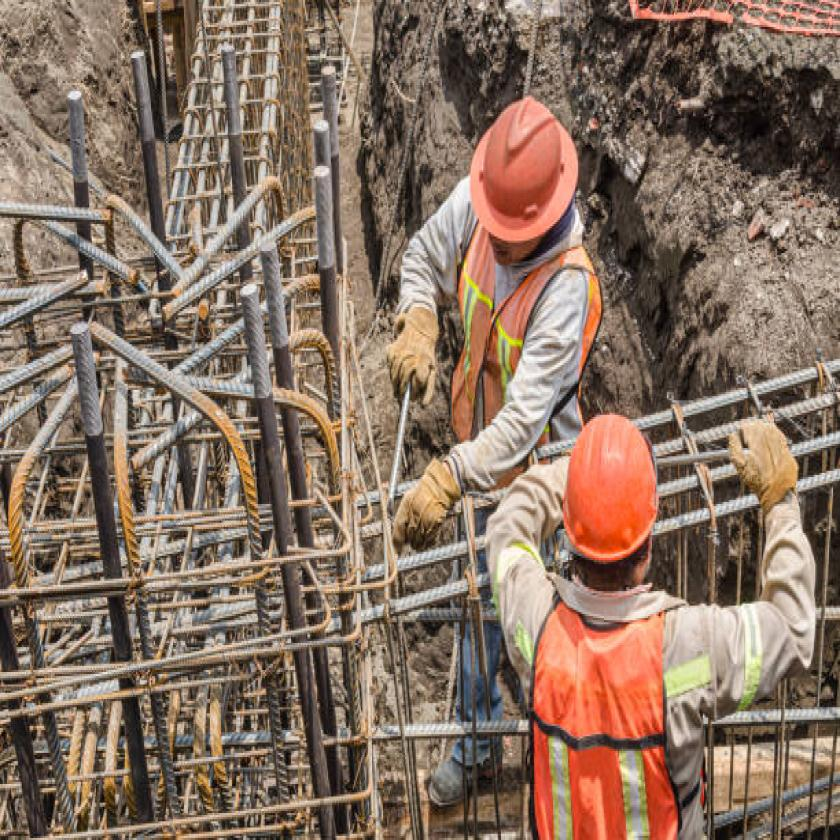Con_casco: (446, 57, 600, 313), (537, 419, 675, 619)
